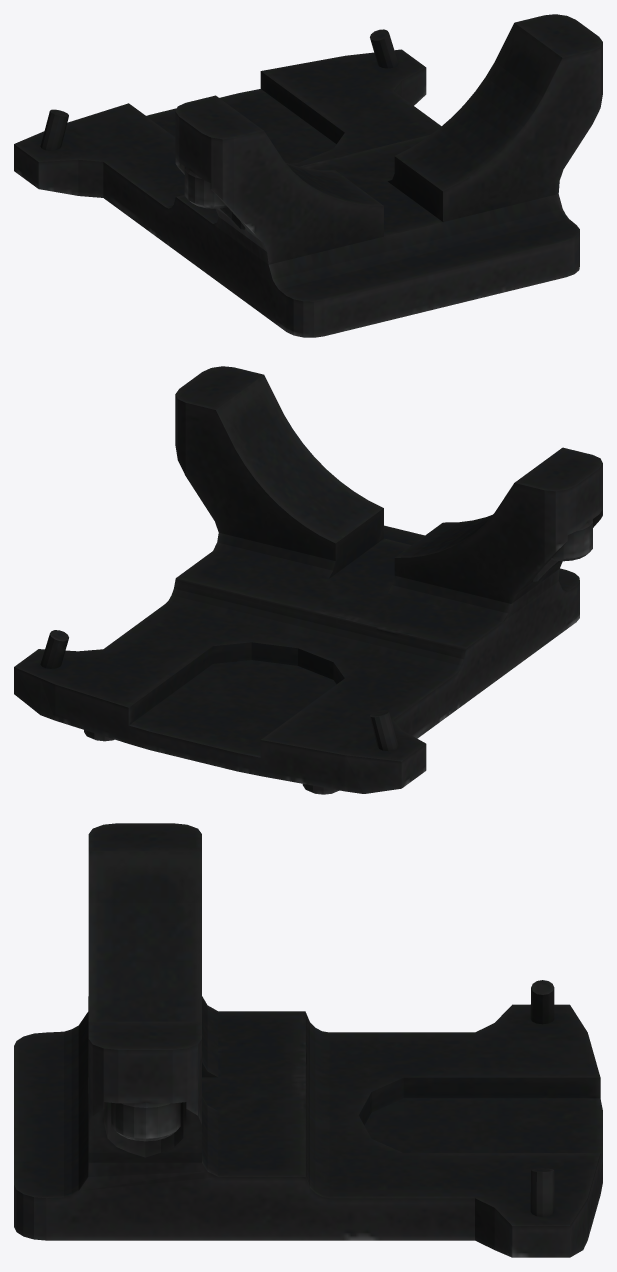
3 renders of one model, top to bottom at view 1: azimuth 30°, elevation 25°; view 2: azimuth 150°, elevation 25°; view 3: azimuth 270°, elevation 25°, orthographic. The views are drawn at different scales.
Visible parts, largest first — view 1: TW_5a33bab6c4a28200741e22f8_PZ_Import; view 2: TW_5a33bab6c4a28200741e22f8_PZ_Import; view 3: TW_5a33bab6c4a28200741e22f8_PZ_Import.
Part boxes in pixels (box(x1,y1,x2,y2)): TW_5a33bab6c4a28200741e22f8_PZ_Import: box(14, 14, 602, 337); TW_5a33bab6c4a28200741e22f8_PZ_Import: box(14, 366, 602, 794); TW_5a33bab6c4a28200741e22f8_PZ_Import: box(14, 823, 602, 1257).
Bounding box in the file's own units: 0.024 × 0.026 × 0.0117.
Materials: 1 (1 with a texture image).
